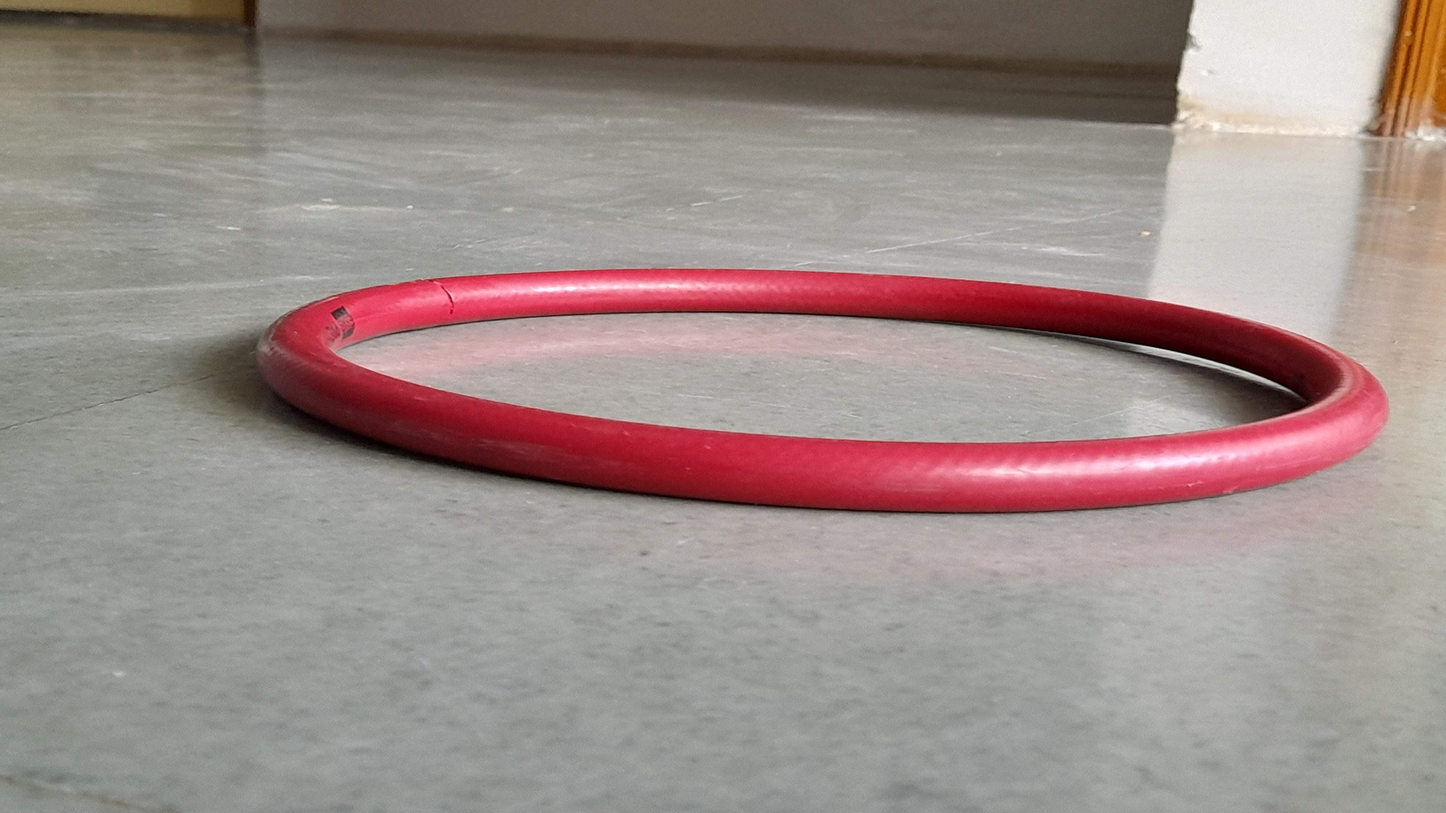Red ring: (251, 270, 1387, 510)
